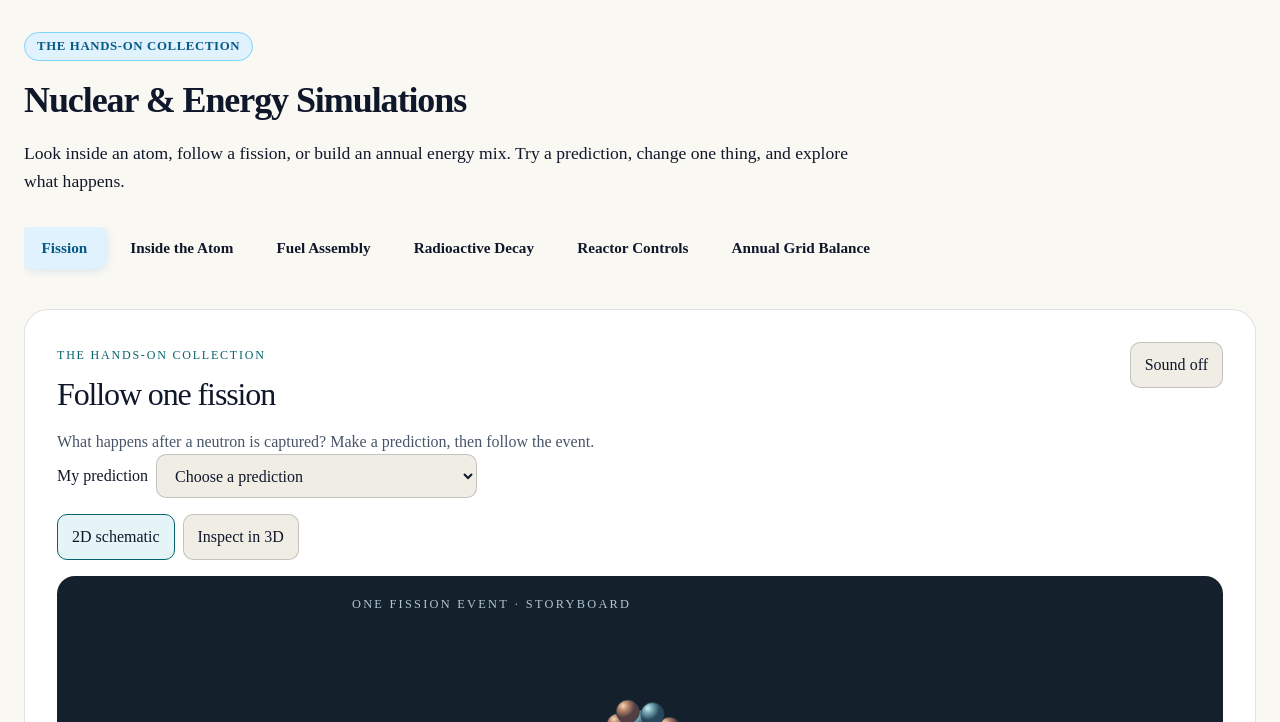
lazy-loads six exhibits and supports roving keyboard tabs
Expected: the heading "Follow one fission" is shown, [57,370,275,418]
Press ArrowRight in the tab "Fission", box [24,228,105,270]
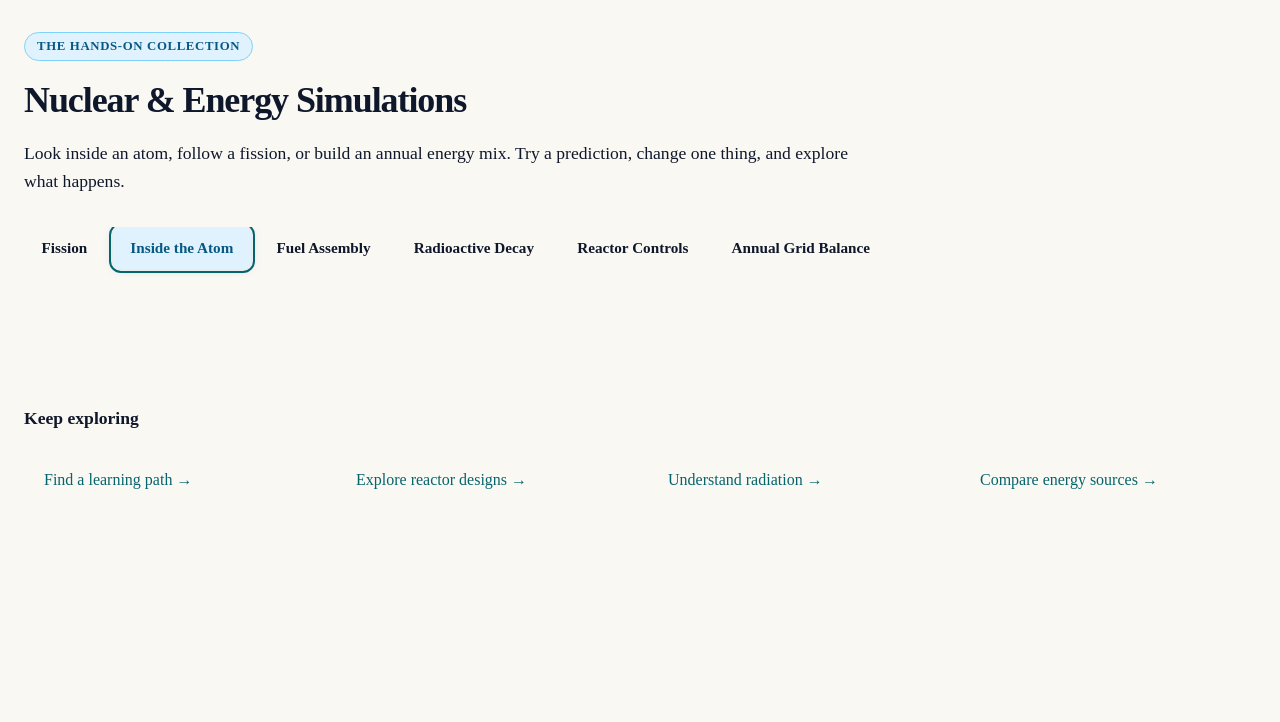
Expected: the tab "Inside the Atom" is selected, [113,228,251,270]
Click the tab "Annual Grid Balance". click: click(801, 248)
box: [714,228,888,270]
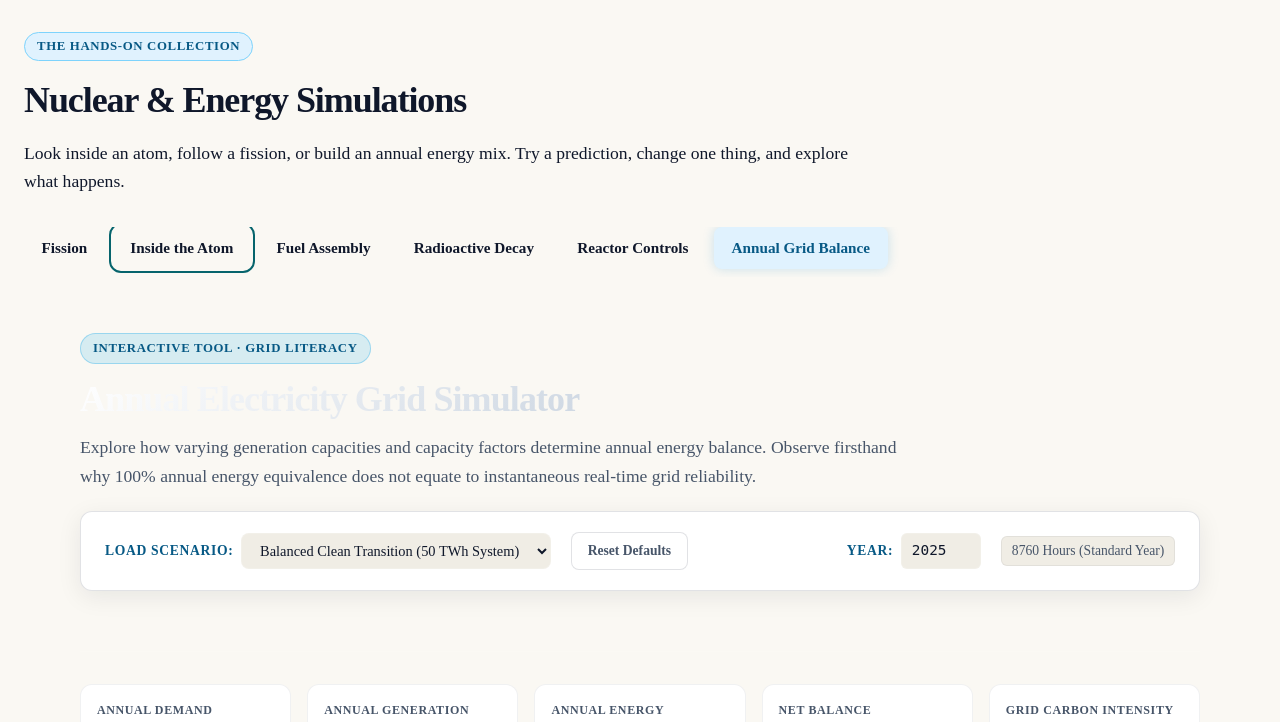
Expected: the heading "Annual Electricity Grid Simulator" is shown, [80,378,1200,421]
Click the tab "Fission". click: click(64, 248)
box: [24,228,105,270]
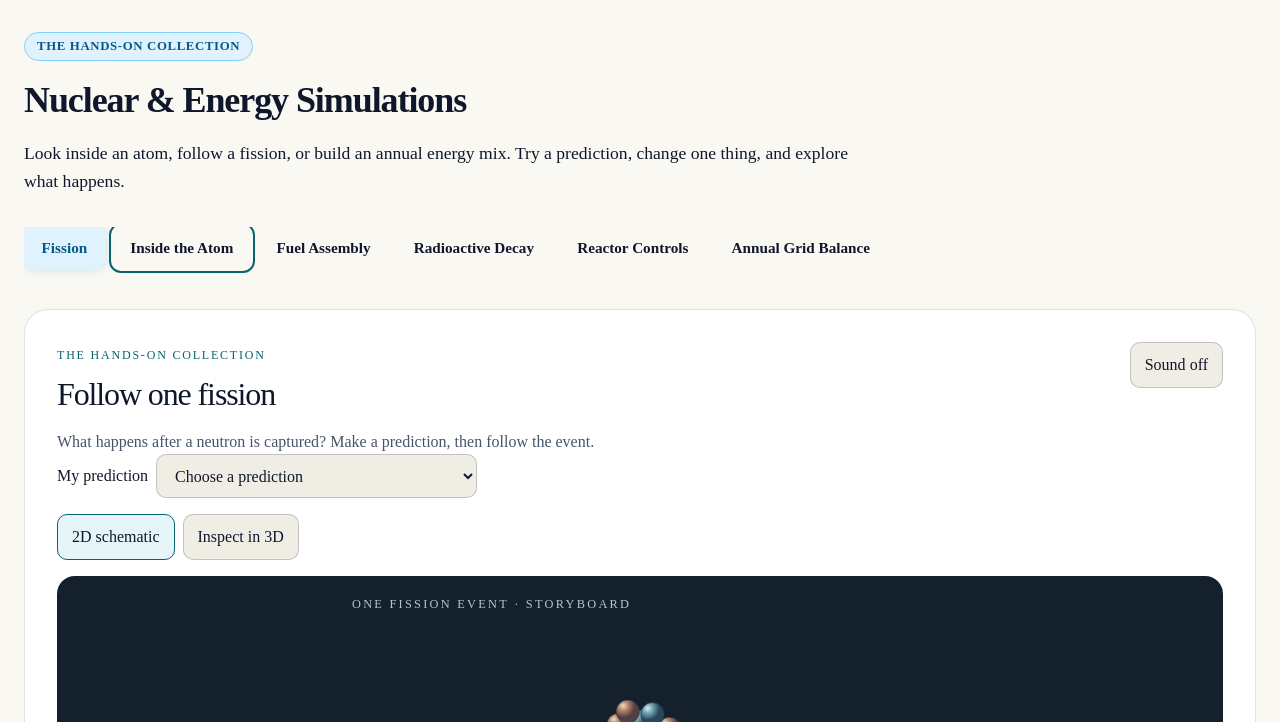
Expected: the heading "Follow one fission" is shown, [57,370,275,418]
